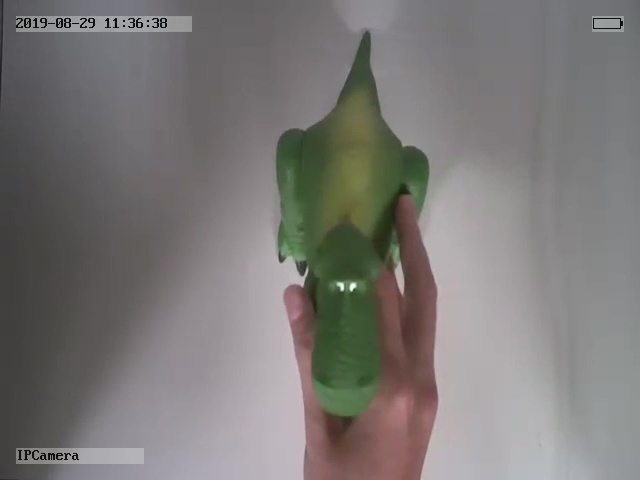rex: (274, 27, 430, 420)
